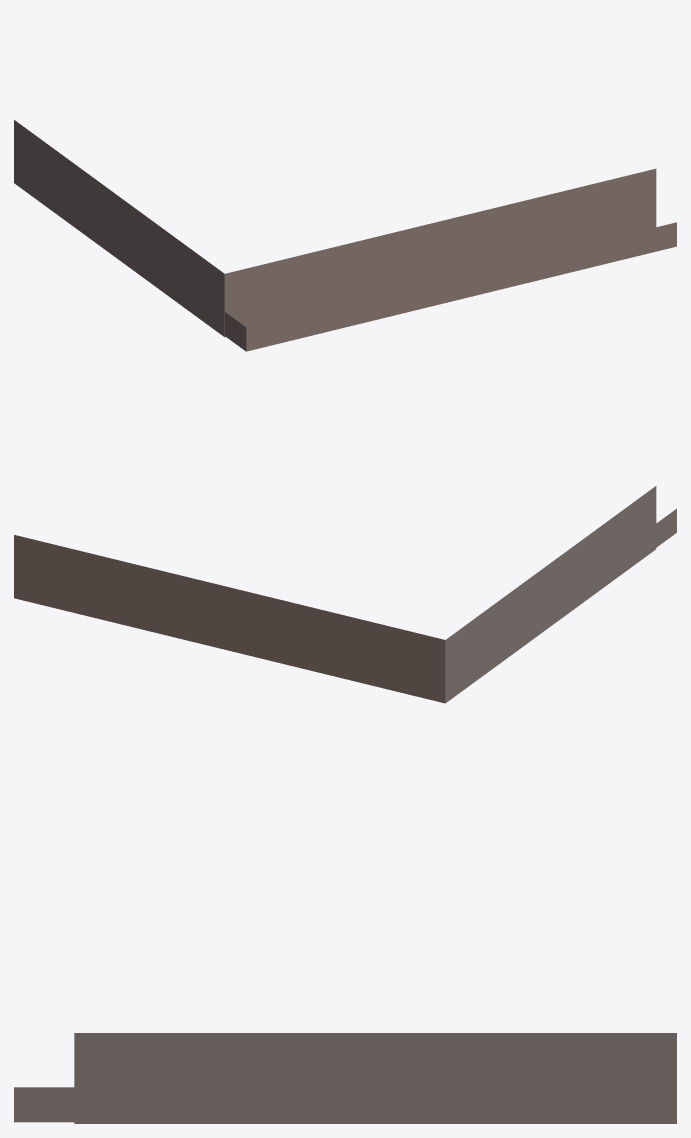
The model's file is brick-floor.far-facades-v3.lod2.glb.
3 views of the same model, one above another, from view 1: azimuth 30°, elevation 25°; view 2: azimuth 150°, elevation 25°; view 3: azimuth 270°, elevation 25° (orthographic). The views are drawn at different scales.
Visible parts, largest first — view 1: brick-floor; view 2: brick-floor; view 3: brick-floor.
Part boxes in pixels (bbox=[...]): brick-floor: bbox=[14, 120, 676, 351]; brick-floor: bbox=[14, 486, 676, 703]; brick-floor: bbox=[14, 1033, 676, 1123].
Size of the model in its own units: 26 by 3.66 by 24.2.
